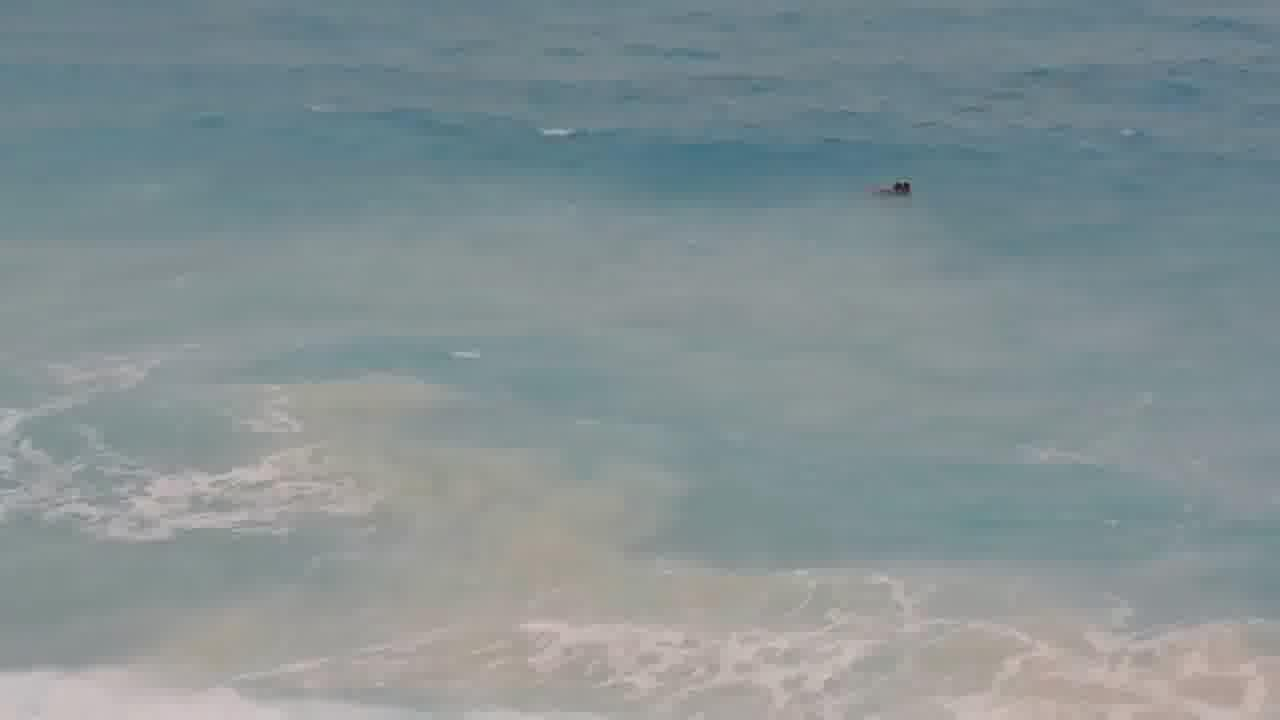human: (862, 172, 900, 203), (900, 176, 920, 199)
